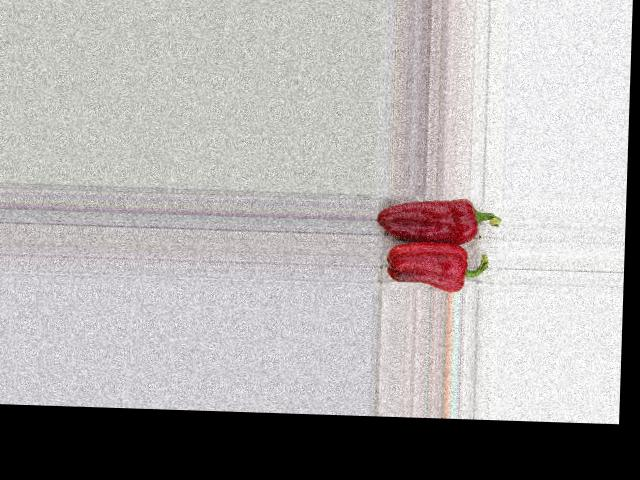bell_pepper: (376, 196, 505, 246)
